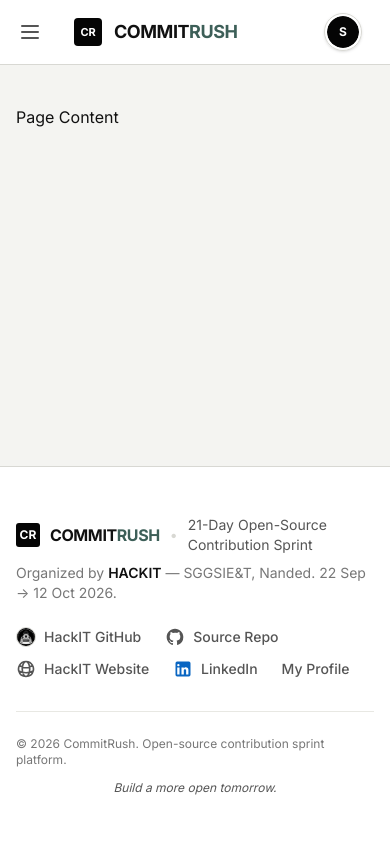
it: Responsive Mobile Navigation › shows My Profile in mobile navigation when authenticated
expect the button with test id "profile-avatar-button" is shown: met, box [324, 13, 362, 51]
Click the button with test id "mobile-menu-trigger" at (30,32), box [8, 10, 52, 54]
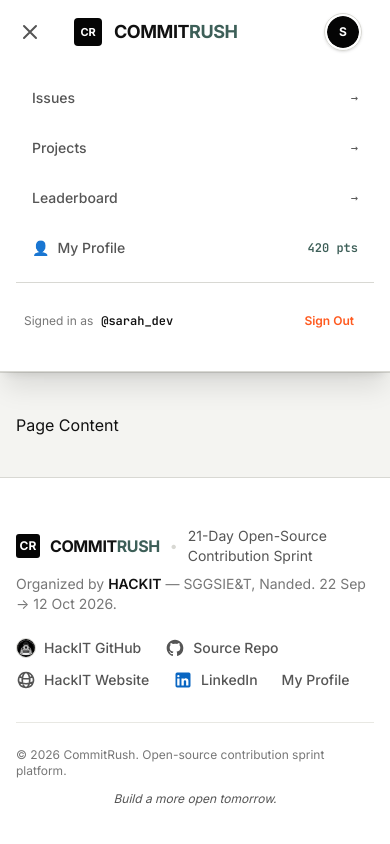
expect the link with test id "mobile-nav-profile" is shown: met, box [32, 239, 358, 256]
expect the text "420 pts" is shown: met, box [308, 240, 358, 256]
expect the button with test id "mobile-nav-logout" is shown: met, box [292, 299, 366, 343]
